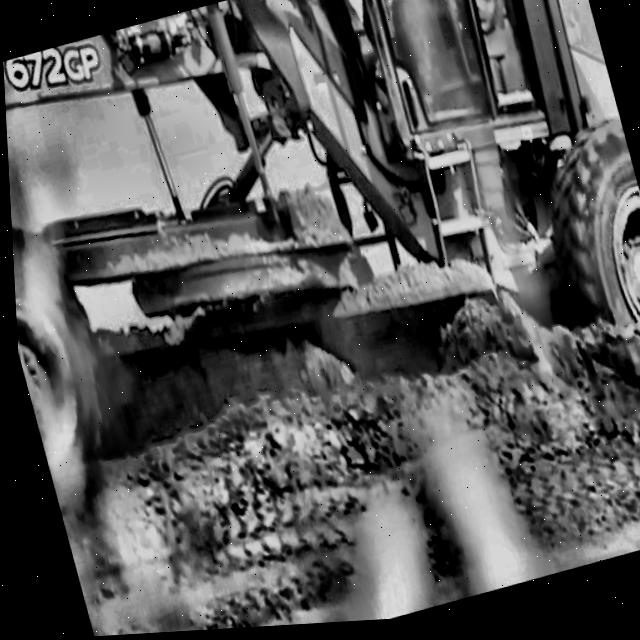buldozerpayloadergrader: (0, 0, 640, 502)
